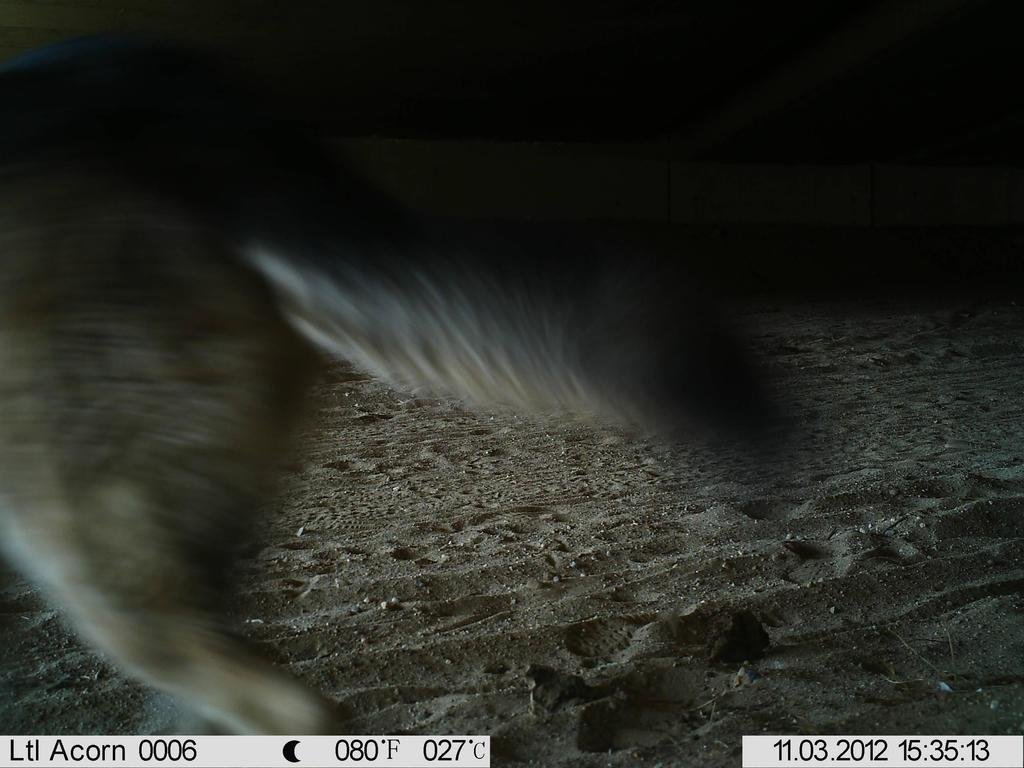dog: (3, 30, 801, 761)
